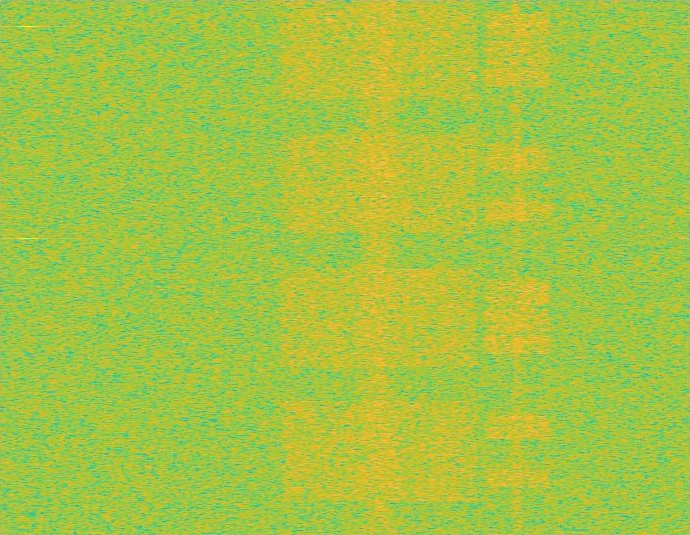5G: (276, 0, 483, 534)
DSSS: (356, 0, 403, 534), (513, 0, 522, 534)
LTE: (483, 0, 552, 534)
Radar: (21, 0, 35, 534)
